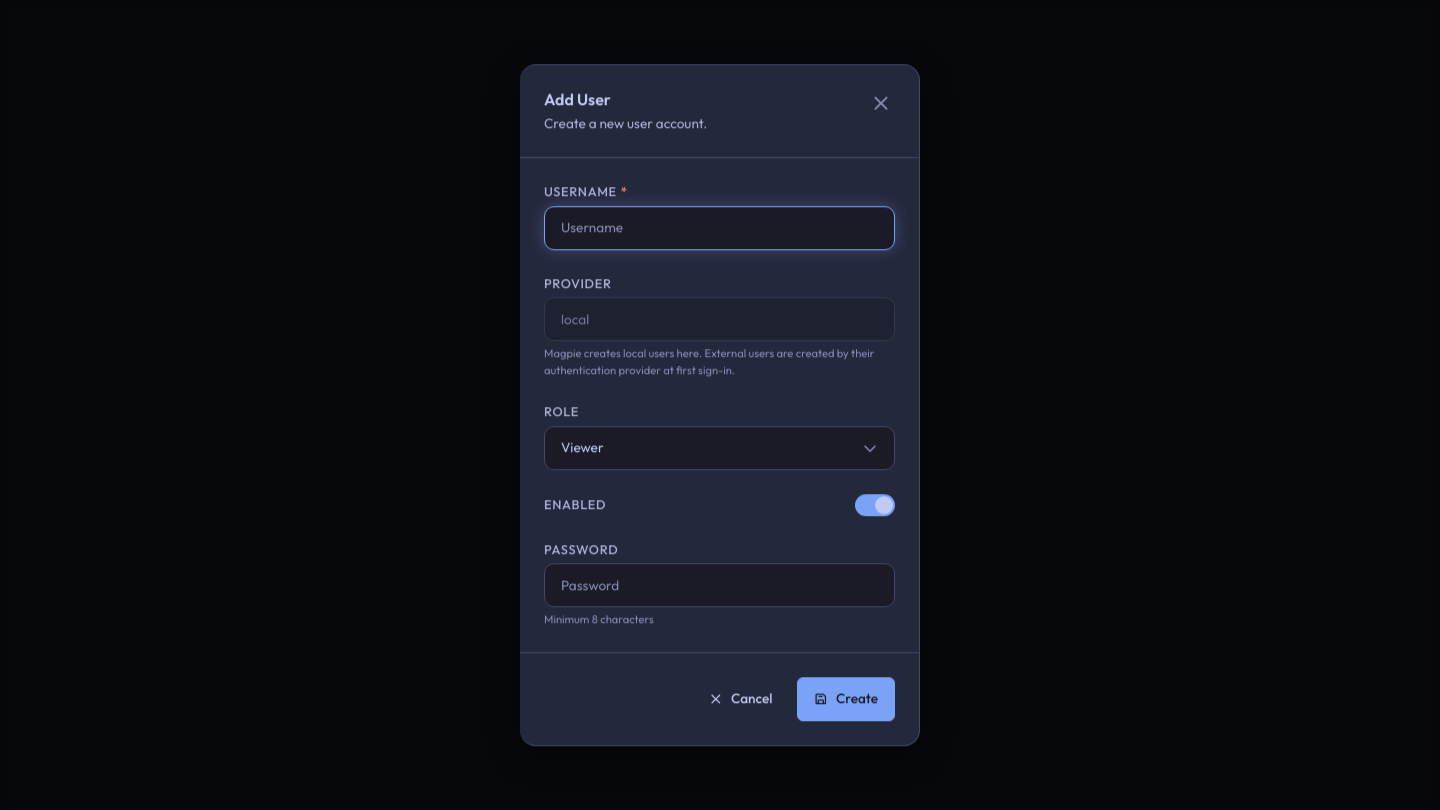
Test case: UserForm validation › shows error when submitting with empty username
Type "securepassword123" into the password field labelled "Password" at {"x": 720, "y": 585}, box [545,567,894,603]
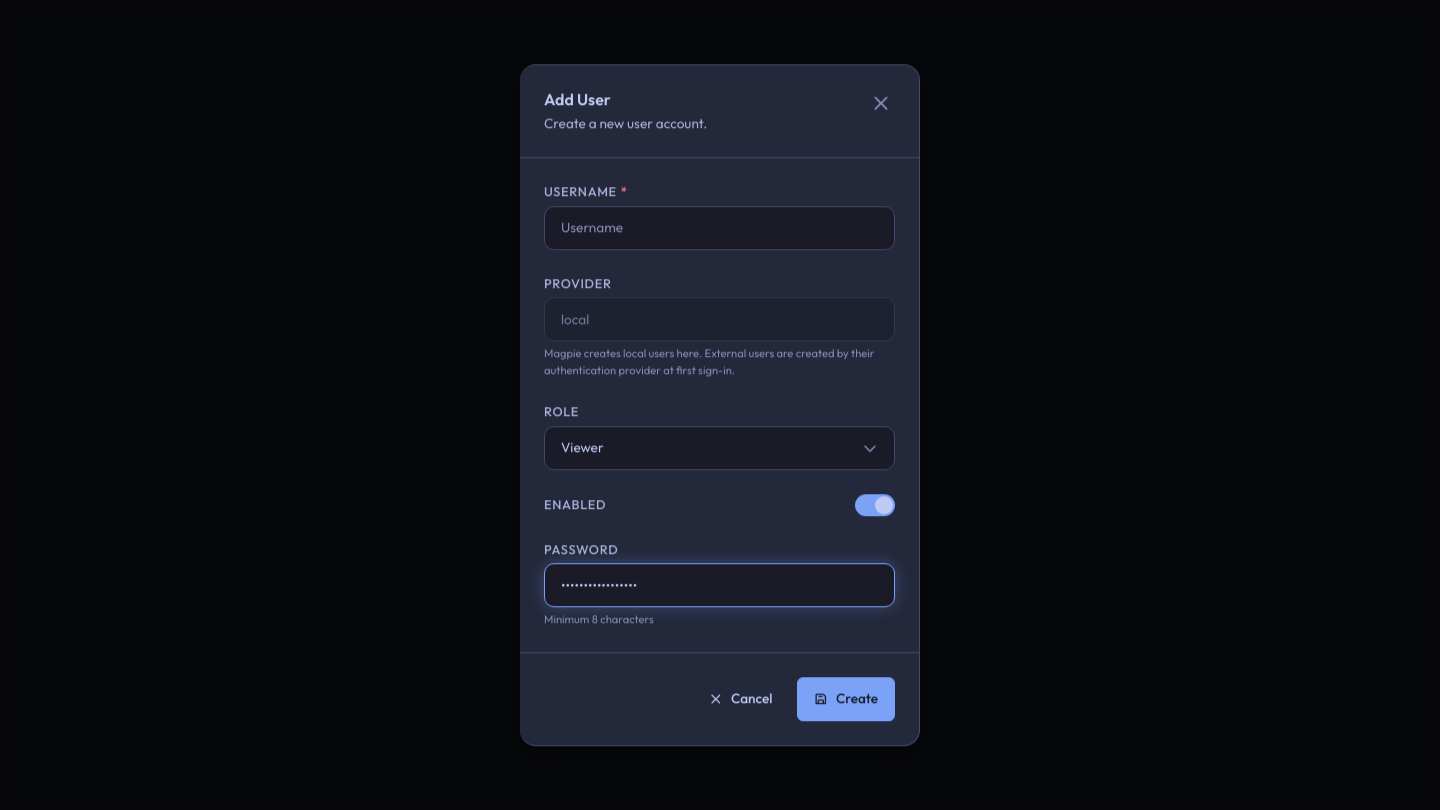
Click the button "Create" at {"x": 846, "y": 699}, box [797,677,895,721]
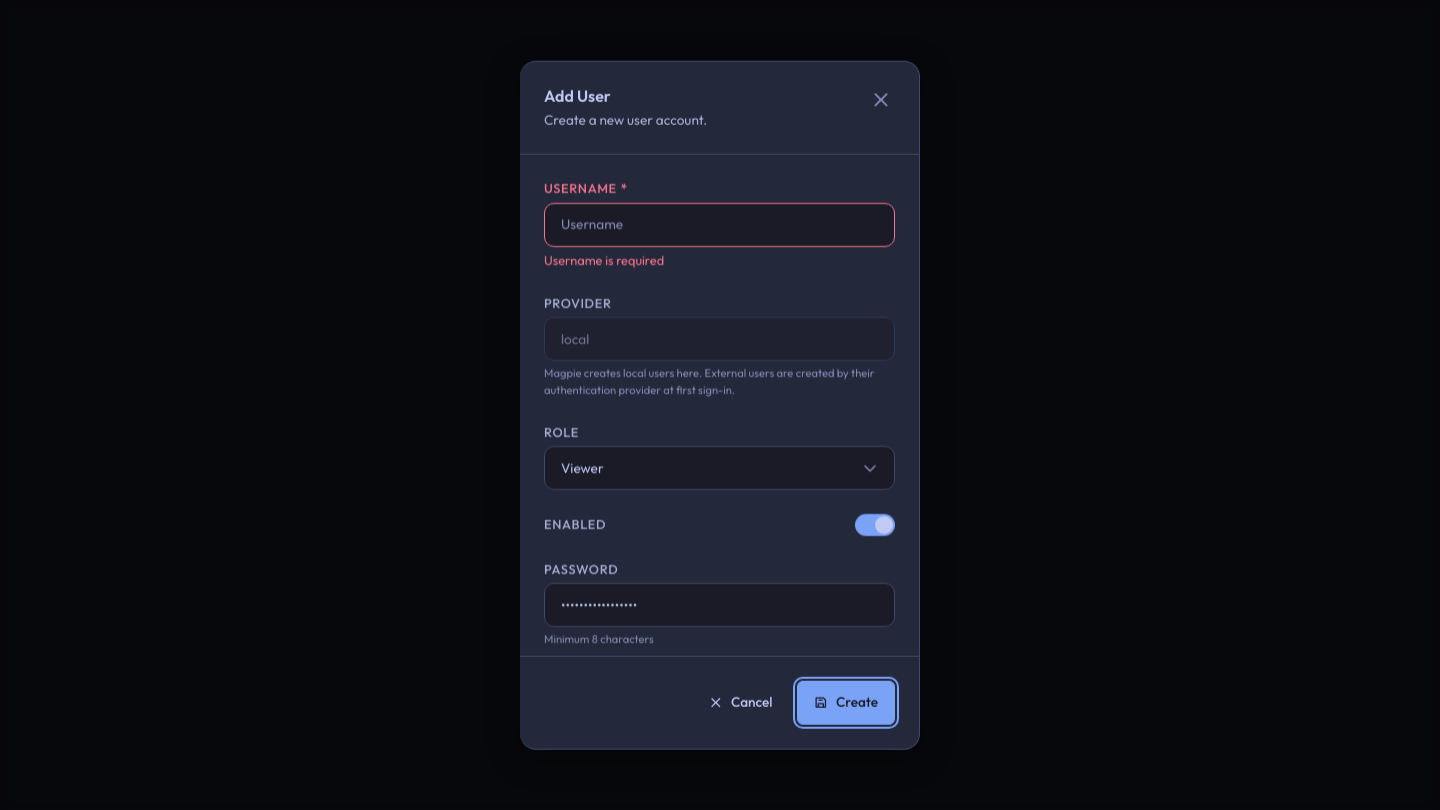
Check: the message reads "Username is required", box [544,251,664,267]
